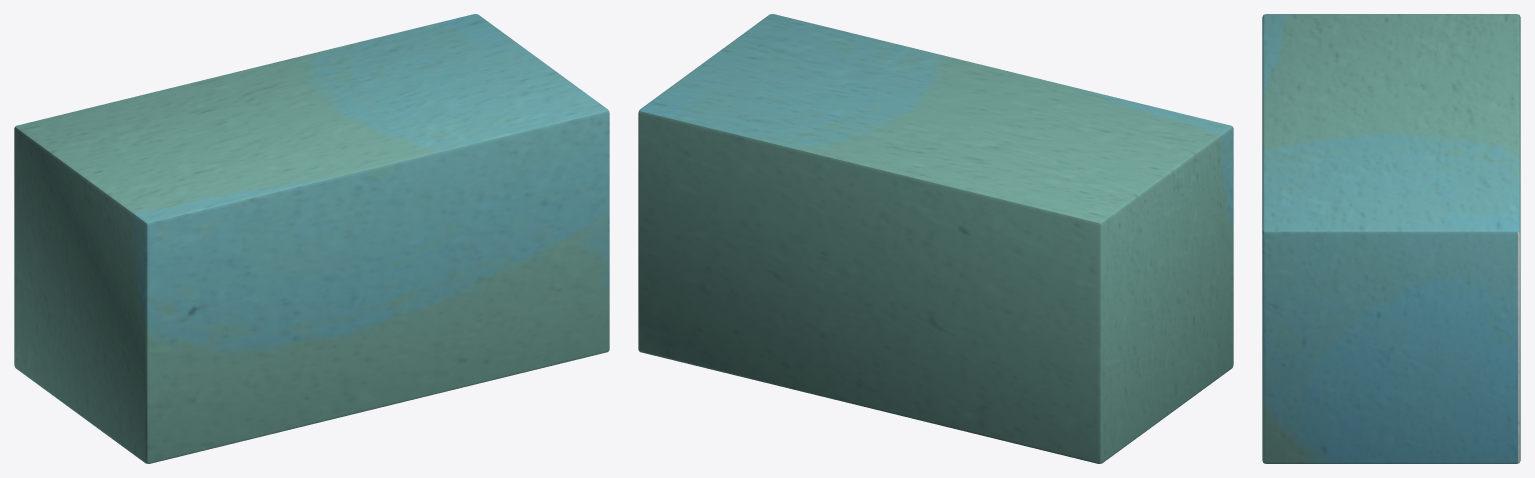
Rendered from TOMB_GROUND_2.obj.
The picture shows the model from 3 angles, left to right: view 1: azimuth 30°, elevation 25°; view 2: azimuth 150°, elevation 25°; view 3: azimuth 270°, elevation 25°; orthographic projection. The views are drawn at different scales.
Parts seen in each view (by area): view 1: TOMB_GROUND_2.002; view 2: TOMB_GROUND_2.002; view 3: TOMB_GROUND_2.002.
Part boxes in pixels (x1,y1,x2,y2): TOMB_GROUND_2.002: (14,14,609,463); TOMB_GROUND_2.002: (638,14,1233,463); TOMB_GROUND_2.002: (1262,14,1520,463).
Bounding box in the file's own units: 2 × 1 × 1.
1 material, 1 textured.
